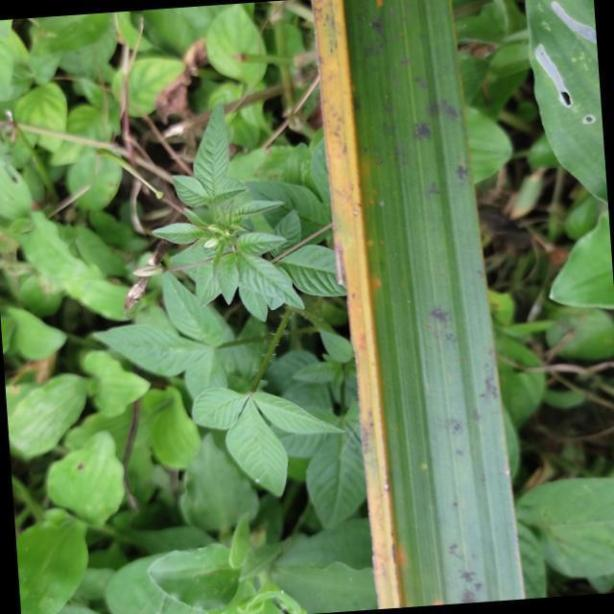Megnesium: (312, 0, 526, 610)
